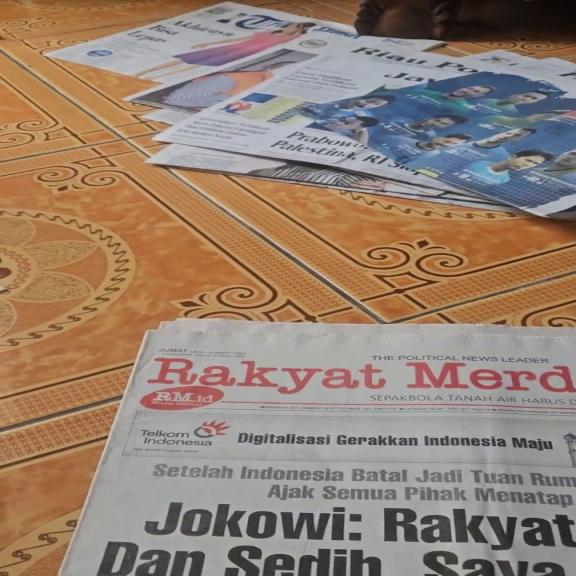Kertas: (150, 330, 574, 573), (183, 40, 572, 168)
